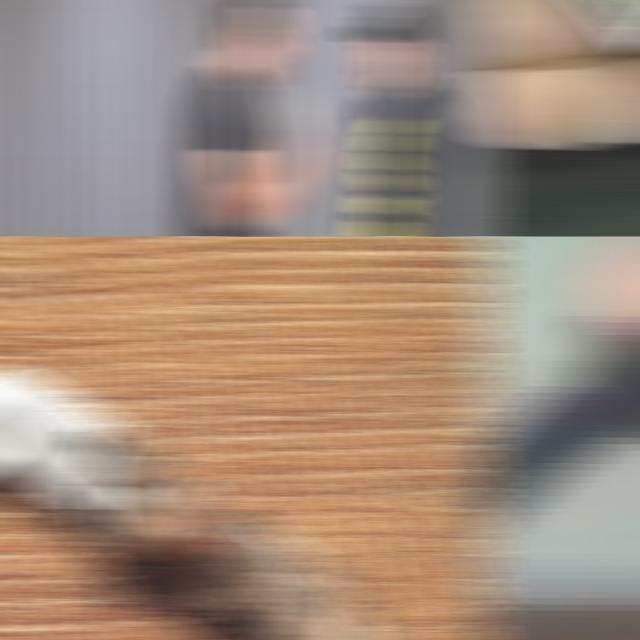Knife_Handle: (475, 236, 640, 640), (271, 75, 321, 178)
